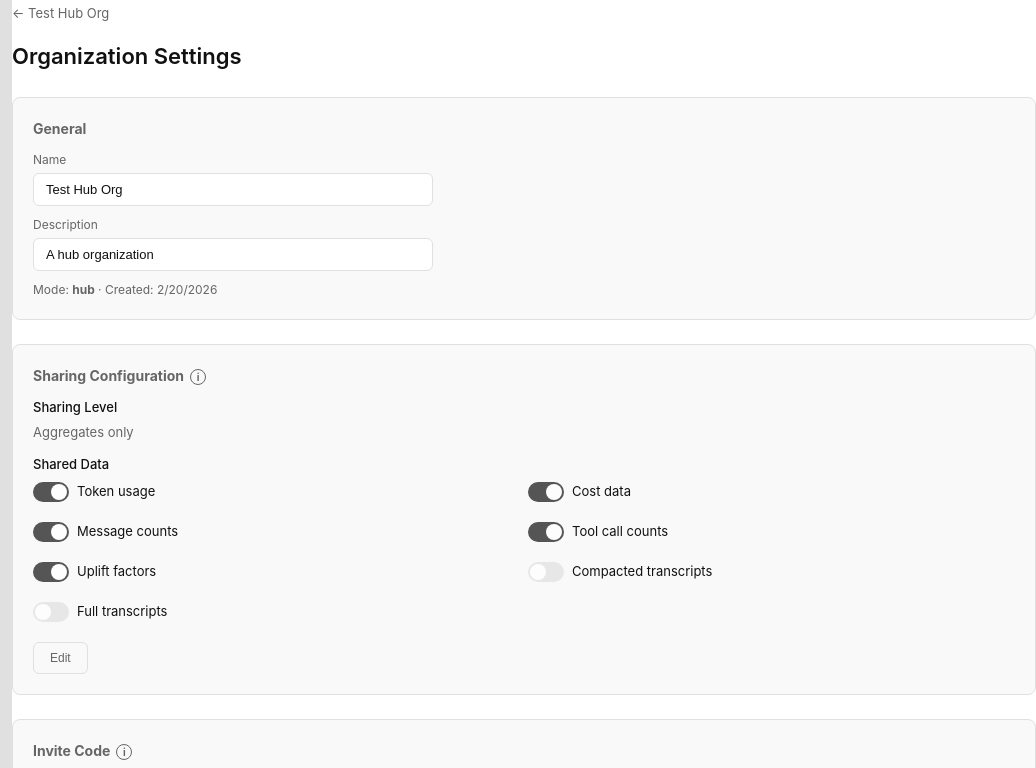
Scenario: OrganizationSettings › Hub mode › shows Save Changes button when name is edited
The width and height of the screenshot is (1036, 768).
Replace the text in the field showing "Test Hub Org" below "Name" with "New Name" at (233, 189), box [33,172,433,206]
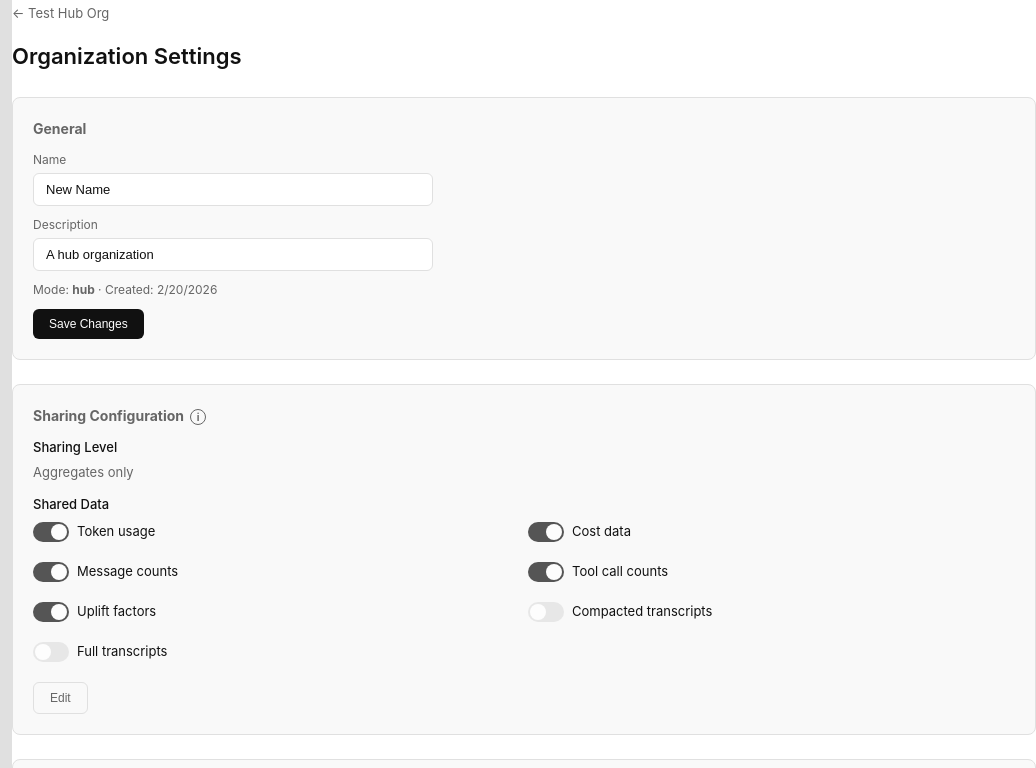
Expected: the button "Save Changes" is shown, [33,308,144,338]
